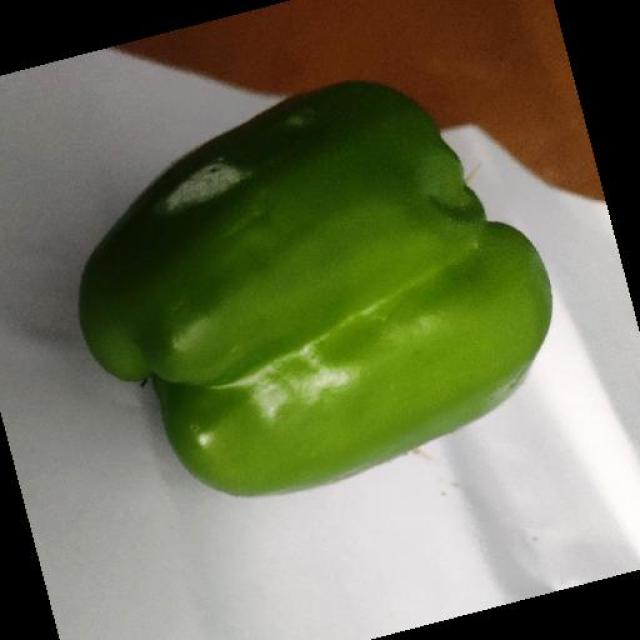Stale_Capsicum: (72, 172, 372, 246)
